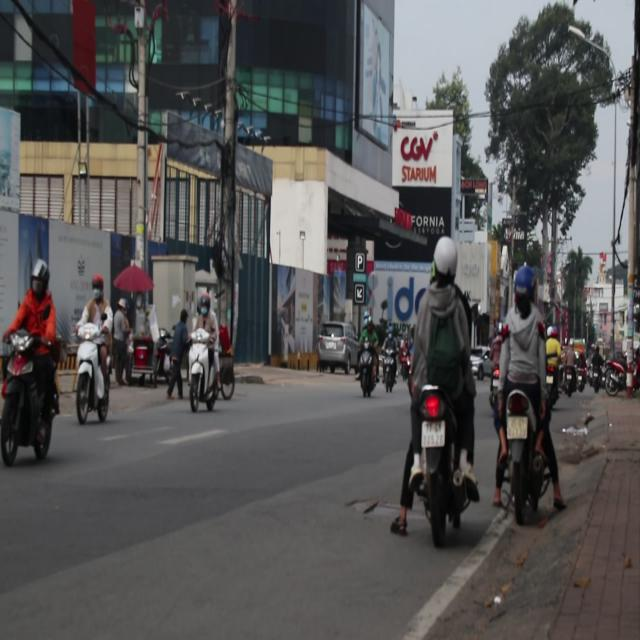car: (316, 320, 358, 373), (471, 350, 488, 382)
motorbike: (412, 378, 474, 549), (0, 336, 60, 465), (500, 393, 554, 521), (71, 331, 109, 424), (185, 326, 219, 416), (606, 353, 640, 399), (354, 342, 376, 398), (604, 362, 626, 396), (561, 364, 580, 398), (383, 348, 396, 393)
